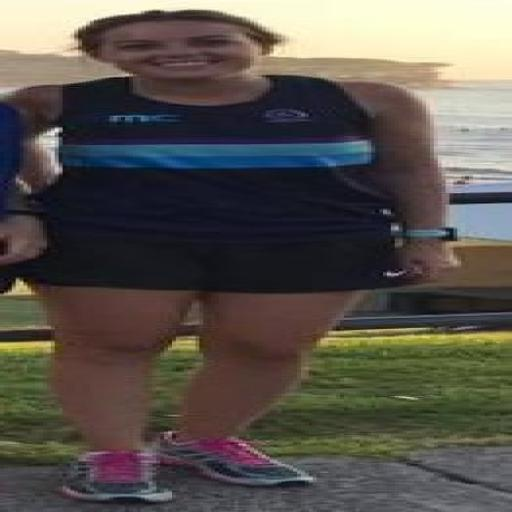person: (12, 11, 457, 501), (0, 103, 46, 293)
